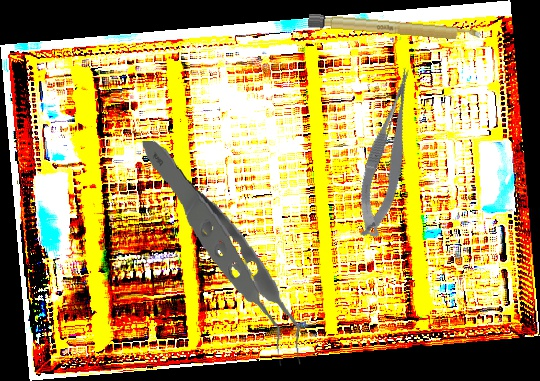Micro Scissor: (343, 64, 435, 243)
Scalpel Handle: (307, 13, 482, 43)
Tissue Forceps: (138, 129, 305, 378)
